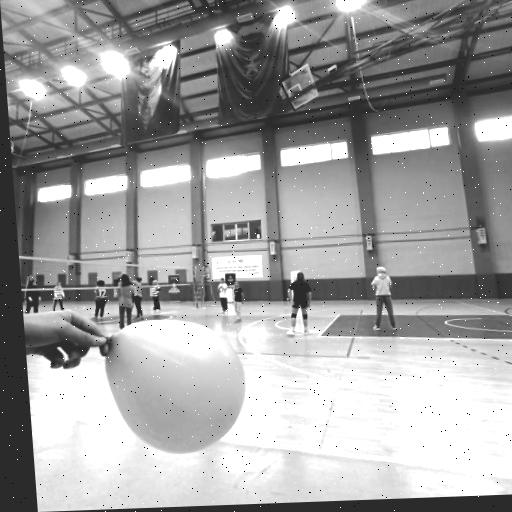balloon: (96, 312, 245, 452)
